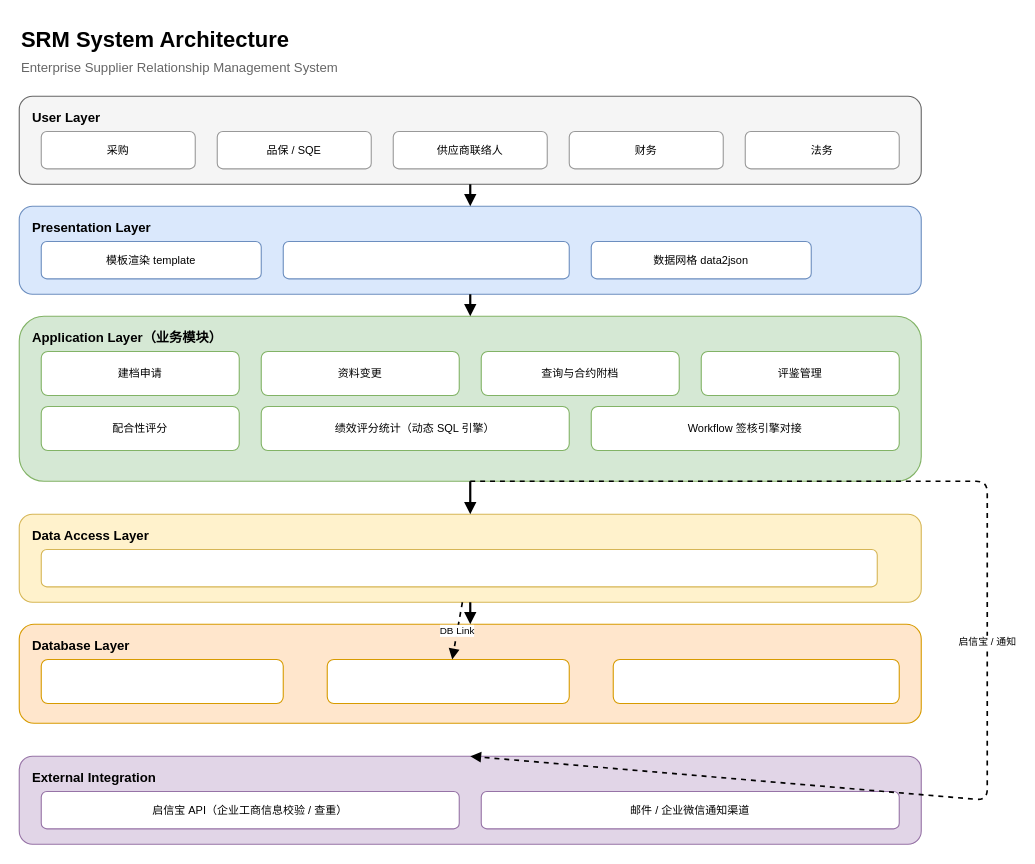
Some shapes in this 1035 by 864 pixel diagram are drawn without their labels. Each missing label, with the centre of its shape:
"MES（@MES_QNP） 品检数据" belongs at [755,680].
"Oracle EBS（@iei_prod） AP / PO 模块" belongs at [447,680].
"Oracle EIP 本地库" belongs at [161,680].
"Oracle PL/SQL 存储过程包 AP_SUPPLIER_MANAGE_PKG（30+ 过程/函数）" belongs at [458,567].
"动态下拉 select（20+ 类型）" belongs at [425,259].
